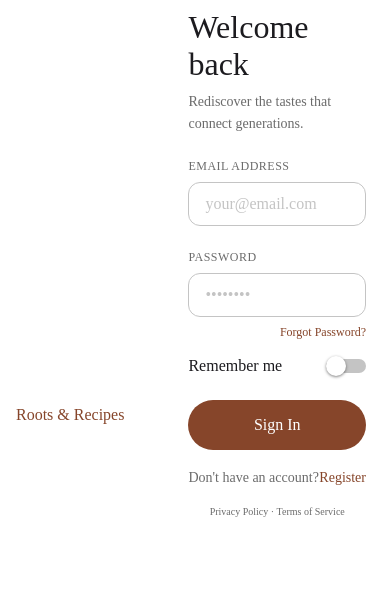
LoginScreen › login submission › shows error banner when login() rejects
Type "user@test.com" into the field with placeholder "your@email.com". click: x=277, y=204
box: [188,182,366,226]
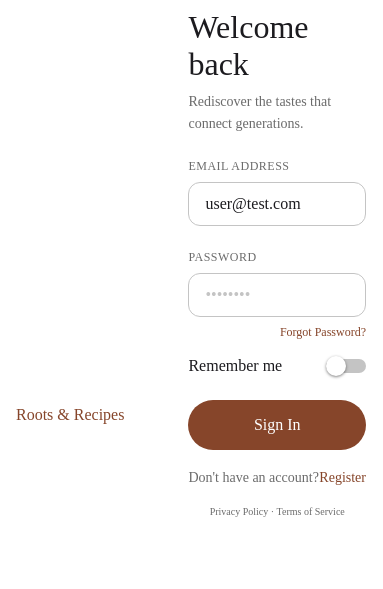
Type "wrongpass" into the password field with placeholder "••••••••". click: x=277, y=295
box: [188,273,366,317]
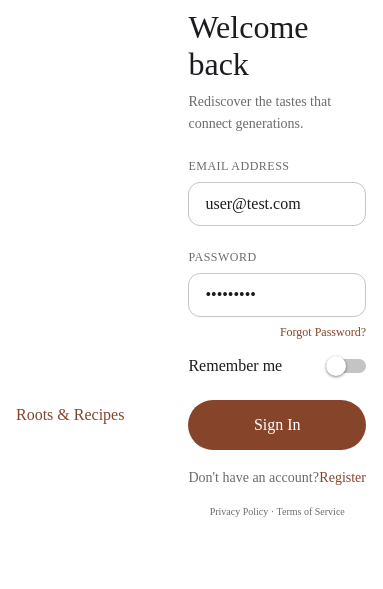
Click the text "Sign In". click: x=277, y=425
box: [254,416,301,434]
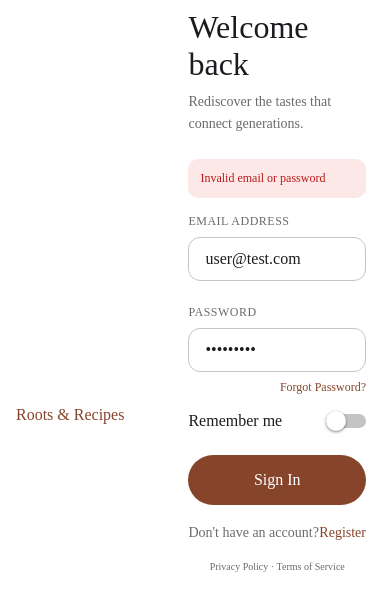
Expected: the text "Invalid email or password" is shown, [200,171,325,185]
